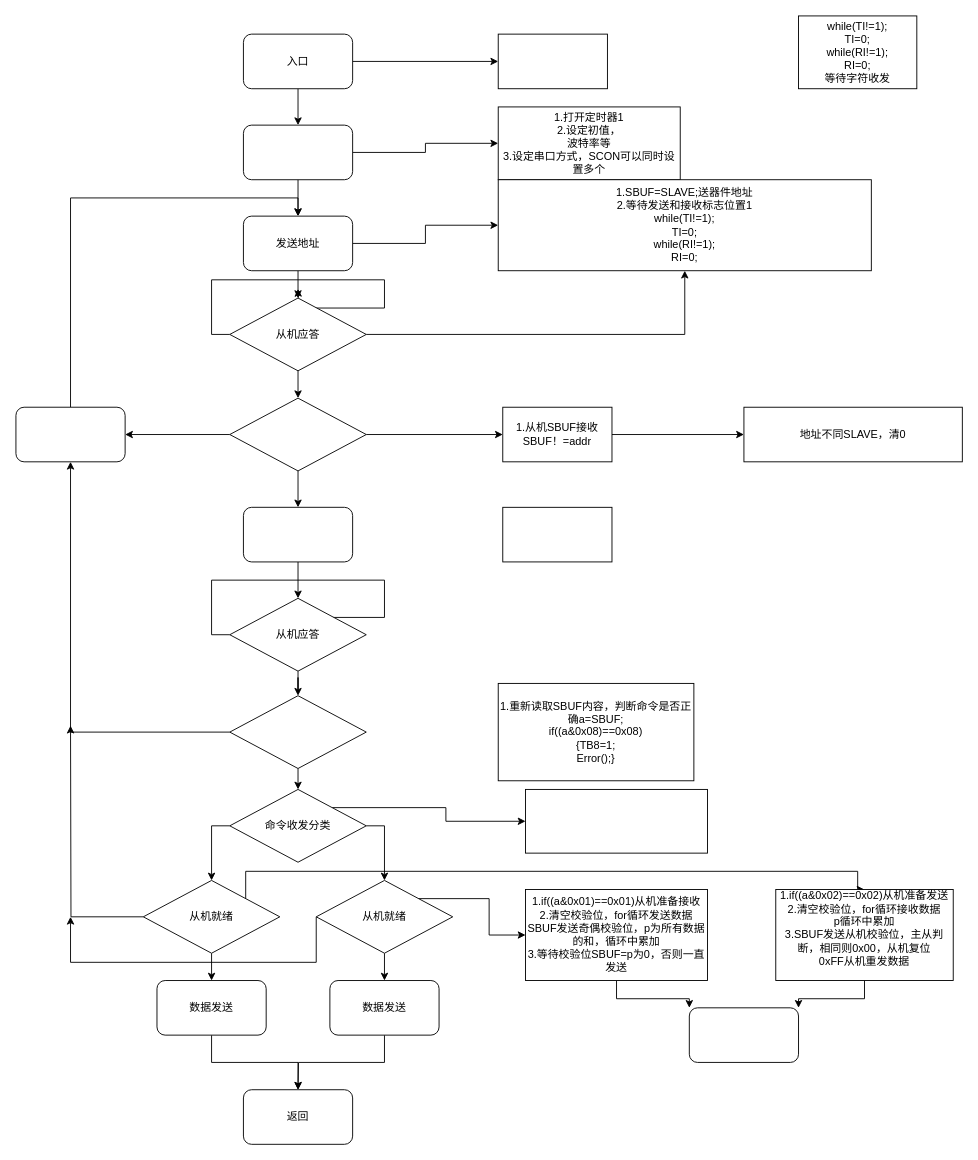
Some shapes in this 978 by 1160 pixel diagram are drawn without their labels. The box of each missing label's shape, as (x1, y1, x2, y2) in pixels:
1.判断cmd低两位， 01:主机发送，从机接收 02：主机接收，从机发送: (525, 789, 708, 853)
1.地址相同，复位标志TB8清0 2.SBUF=cmd，发送命令: (502, 506, 612, 562)
4.无论结果如何，判断一次后主机需要拉高TB8=1，等待新地址: (688, 1007, 799, 1062)
串口初始化: (243, 124, 353, 180)
发送命令字: (243, 506, 353, 562)
命令分类: (15, 406, 125, 462)
命令正确: (229, 695, 366, 768)
应答地址相符: (229, 397, 366, 471)
进入main函数: (497, 33, 607, 89)
